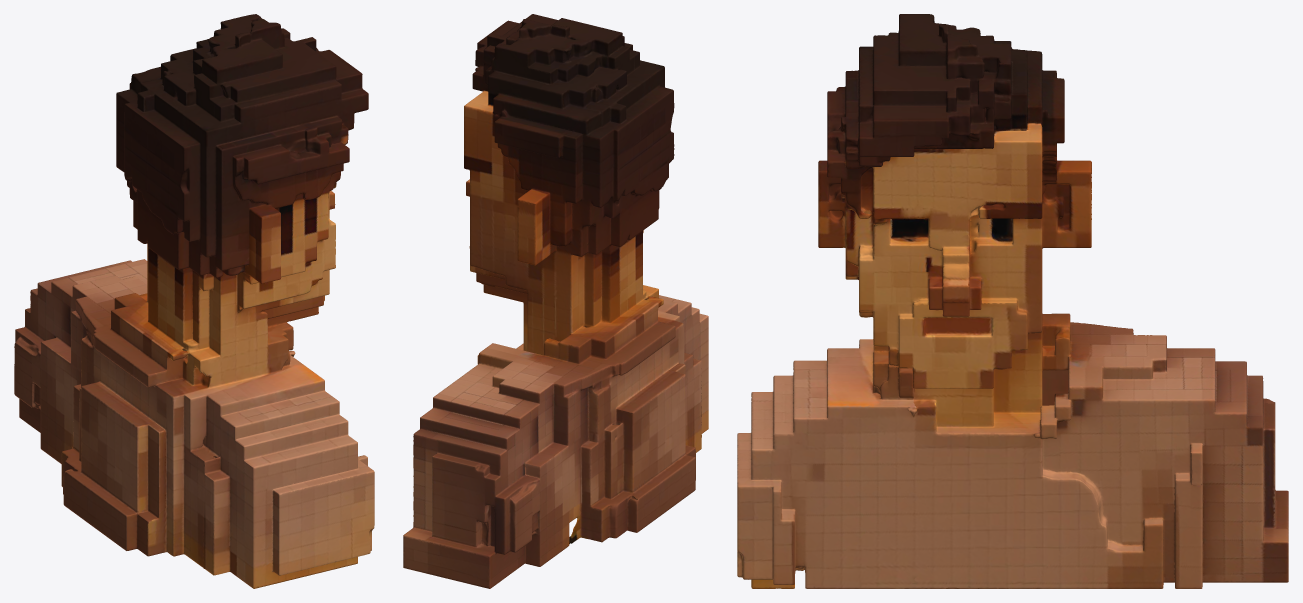
3 views of the same model, side by side, from view 1: azimuth 30°, elevation 25°; view 2: azimuth 150°, elevation 25°; view 3: azimuth 270°, elevation 25° (orthographic). The views are drawn at different scales.
Visible parts, largest first — view 1: tripo_node_5817362d-6cbd-45c0-b7a5-af4b33fccceb; view 2: tripo_node_5817362d-6cbd-45c0-b7a5-af4b33fccceb; view 3: tripo_node_5817362d-6cbd-45c0-b7a5-af4b33fccceb.
Boxes of the visible parts, <box> form: tripo_node_5817362d-6cbd-45c0-b7a5-af4b33fccceb: <box>14,14,374,588</box>; tripo_node_5817362d-6cbd-45c0-b7a5-af4b33fccceb: <box>403,14,708,588</box>; tripo_node_5817362d-6cbd-45c0-b7a5-af4b33fccceb: <box>737,14,1288,588</box>.
Size of the model in its own units: 0.4888 by 1 by 0.9182.
Materials: 1 (1 with a texture image).
